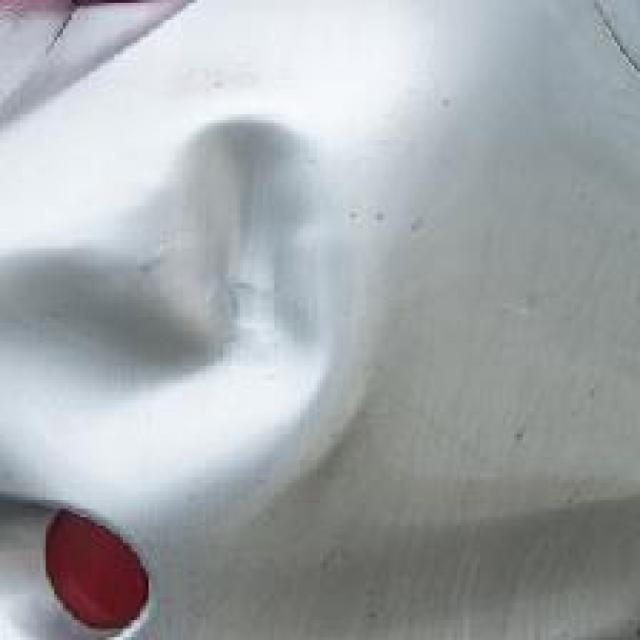damaged: (2, 111, 358, 512)
